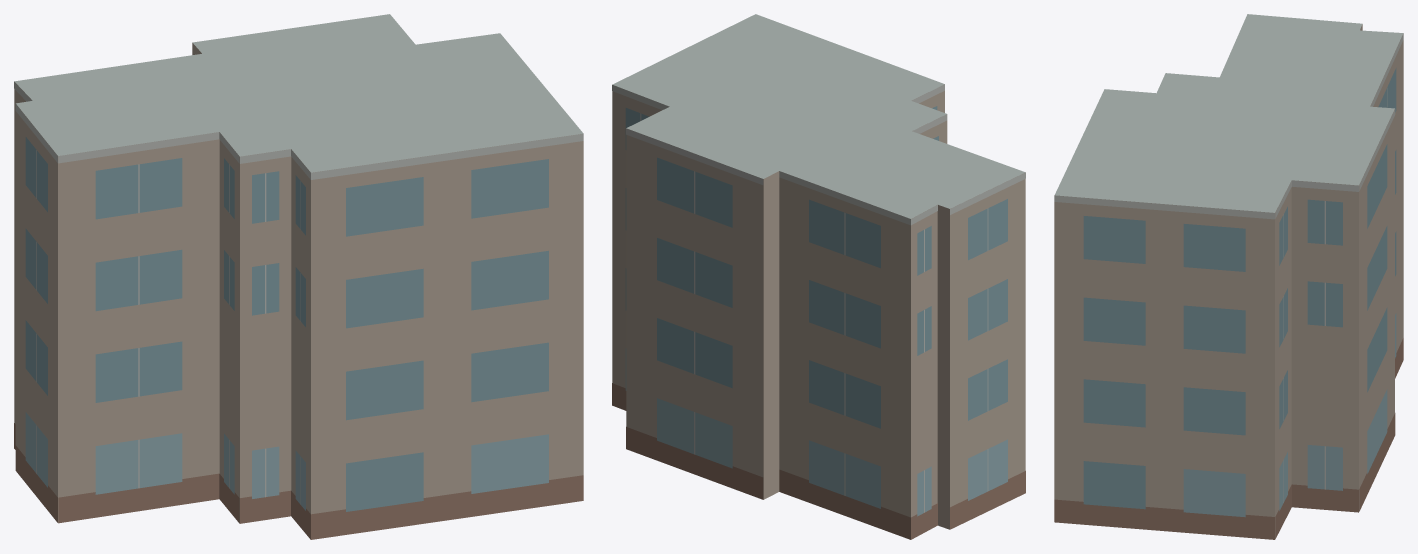
File: survey-upis-32626770.glb
3 views of the same model, side by side, from view 1: azimuth 30°, elevation 25°; view 2: azimuth 150°, elevation 25°; view 3: azimuth 270°, elevation 25° (orthographic). The views are drawn at different scales.
Visible parts, largest first — view 1: survey-upis-32626770.tmp; view 2: survey-upis-32626770.tmp; view 3: survey-upis-32626770.tmp.
Part boxes in pixels (x1,y1,x2,y2): survey-upis-32626770.tmp: (14, 14, 583, 539); survey-upis-32626770.tmp: (612, 14, 1025, 539); survey-upis-32626770.tmp: (1054, 14, 1403, 539).
Size of the model in its own units: 15.93 by 12.2 by 11.81.
